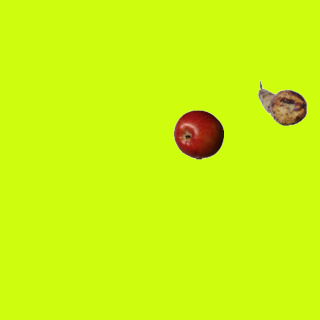Apple Braeburn: (173, 109, 223, 159)
Pear Abate: (257, 78, 307, 128)
